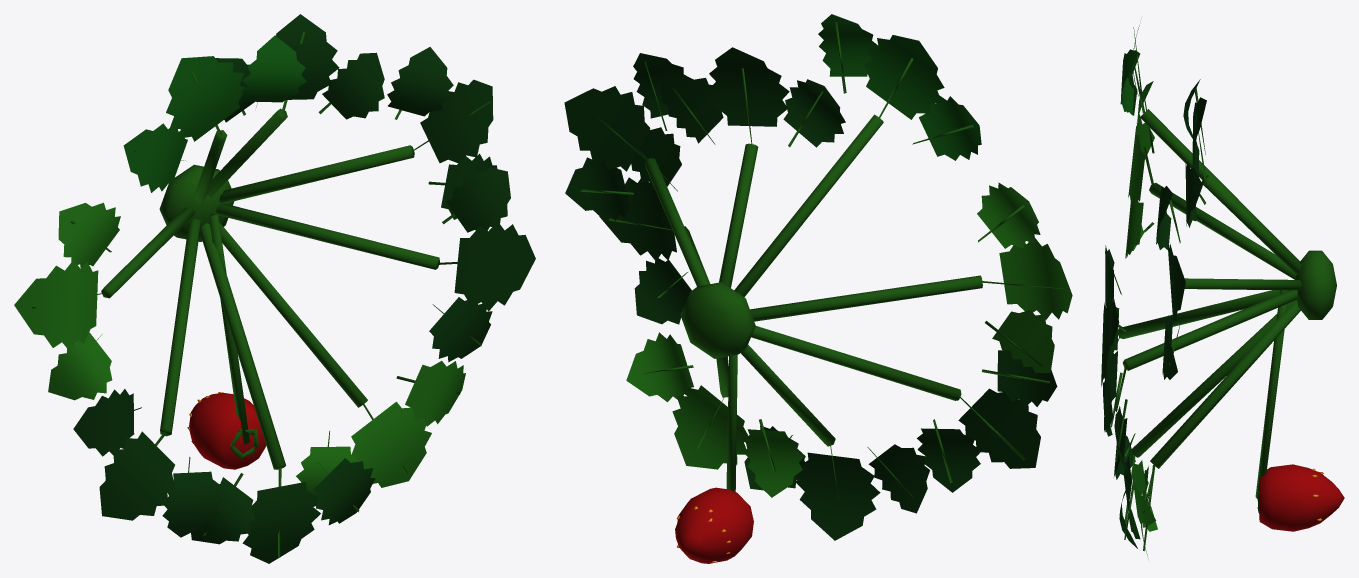
The model's file is plant_variant_21.obj.
3 renders of one model, left to right at view 1: azimuth 30°, elevation 25°; view 2: azimuth 150°, elevation 25°; view 3: azimuth 270°, elevation 25°, orthographic. The views are drawn at different scales.
Visible parts, largest first — view 1: field_export_plant_variant_21; view 2: field_export_plant_variant_21; view 3: field_export_plant_variant_21.
Part boxes in pixels (box(x1,y1,x2,y2)): field_export_plant_variant_21: box(14, 14, 535, 563); field_export_plant_variant_21: box(564, 14, 1072, 563); field_export_plant_variant_21: box(1101, 25, 1344, 558).
Size of the model in its own units: 0.619 by 0.6262 by 0.2828.
